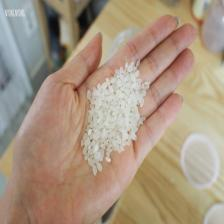rice: (81, 58, 152, 176)
